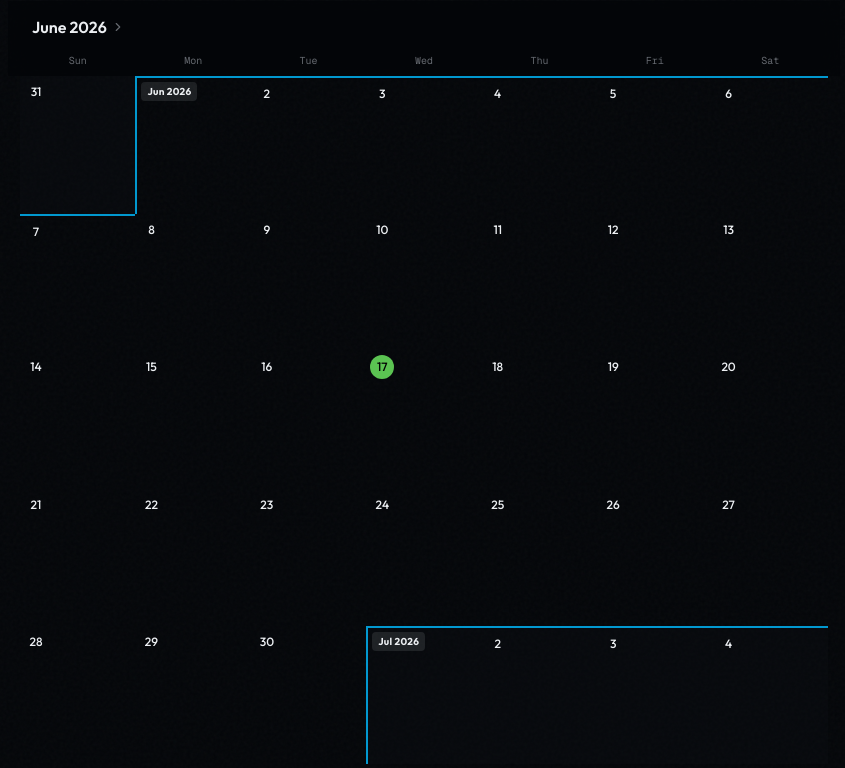
Test: VerticalCalendar quick-jump › shows a month pill with the top-most month label, opening a 12-month popover
Click the button with test id "vcal-month-pill". click: (78, 27)
box: [20,9,137,45]
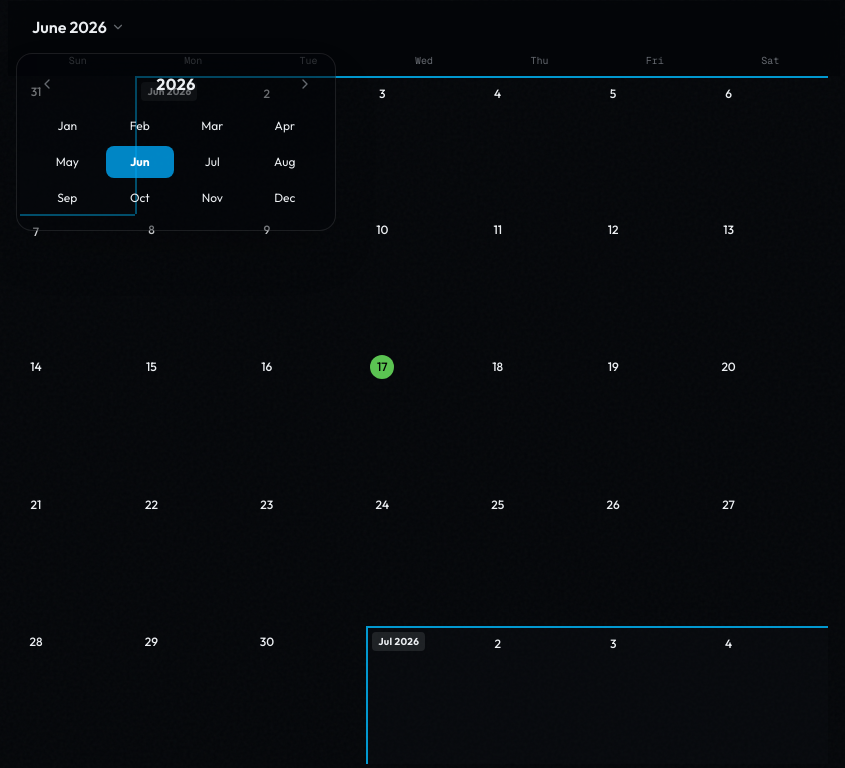
Expected: the element with test id "vcal-jump-popover" is shown, [16,53,336,231]
Expected: the number of buttons with test id "vcal-jump-month" is 12
